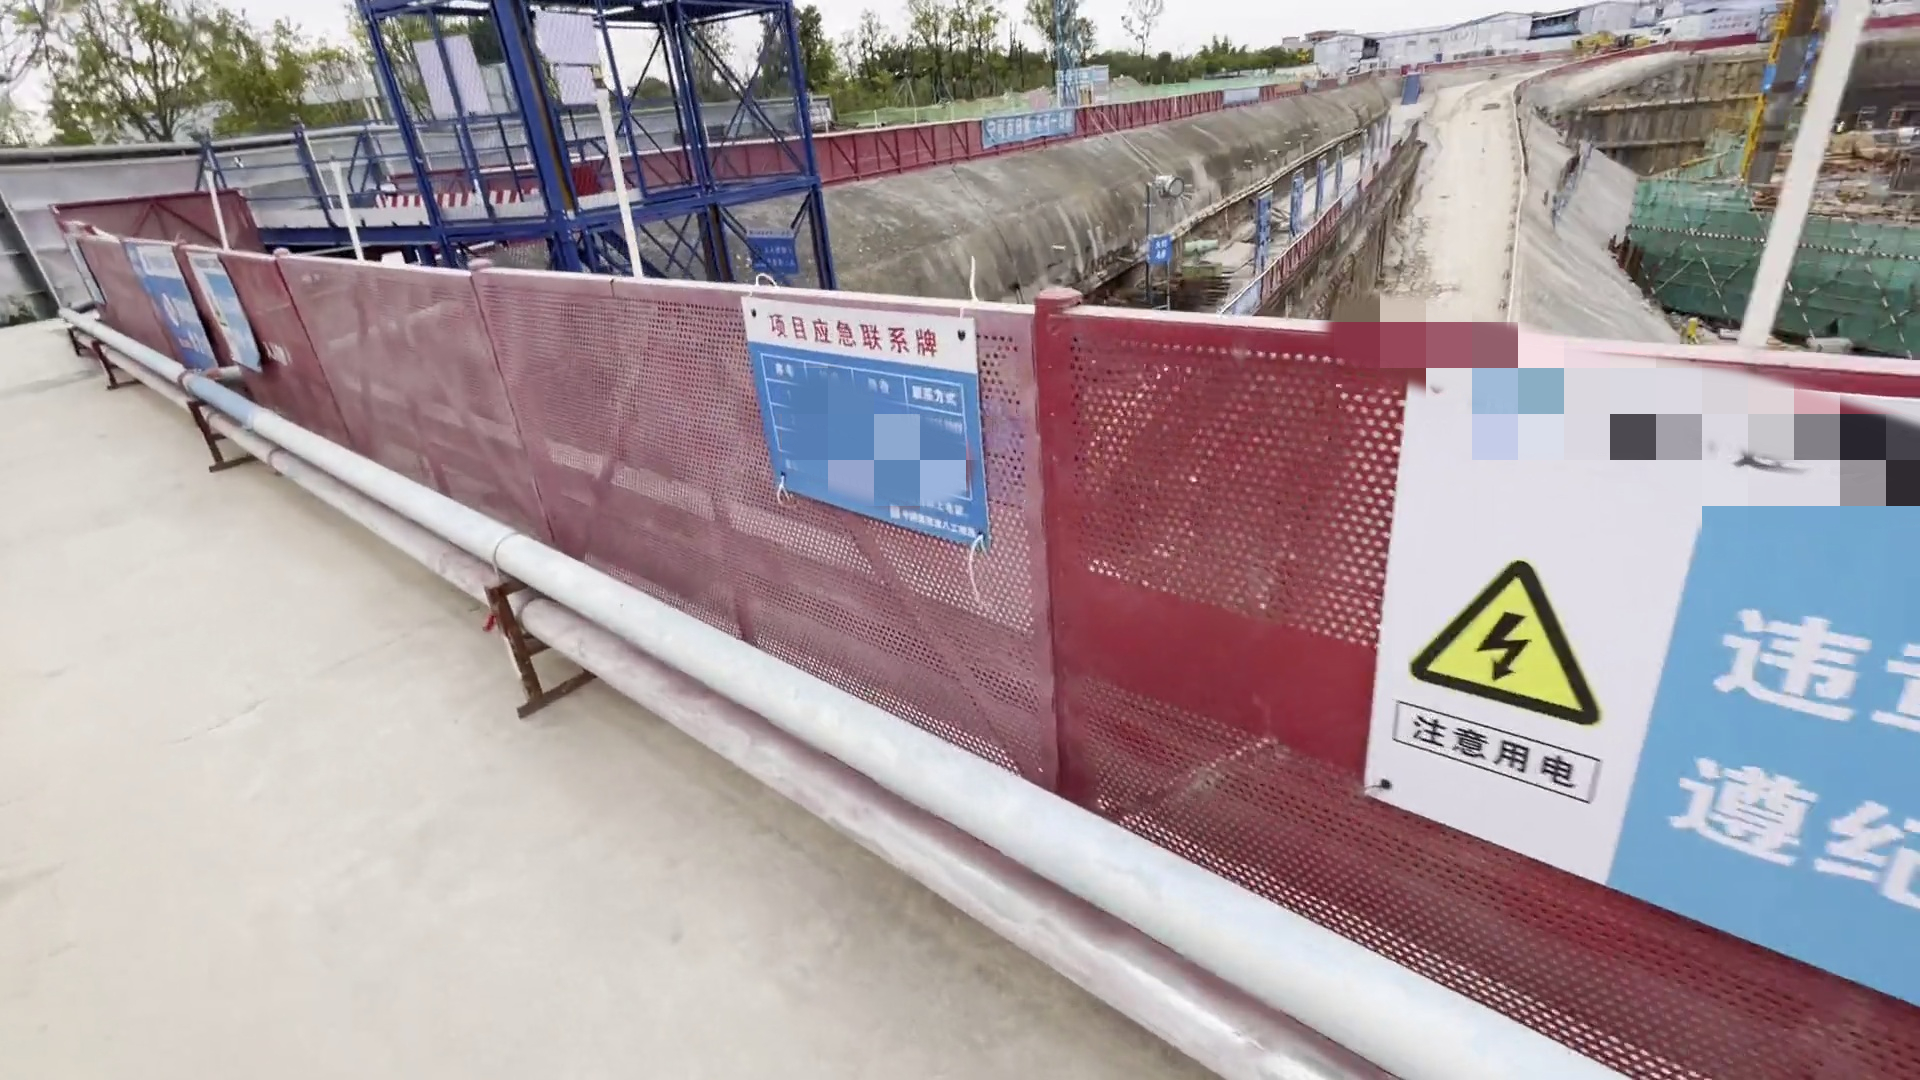fence: (55, 256, 1874, 1065), (576, 70, 1287, 196)
slogan: (1356, 343, 1920, 938), (749, 303, 1011, 575), (120, 248, 262, 396), (967, 102, 1084, 150), (1047, 51, 1110, 92)
